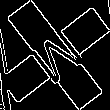M_SE: (21, 21, 89, 89)
